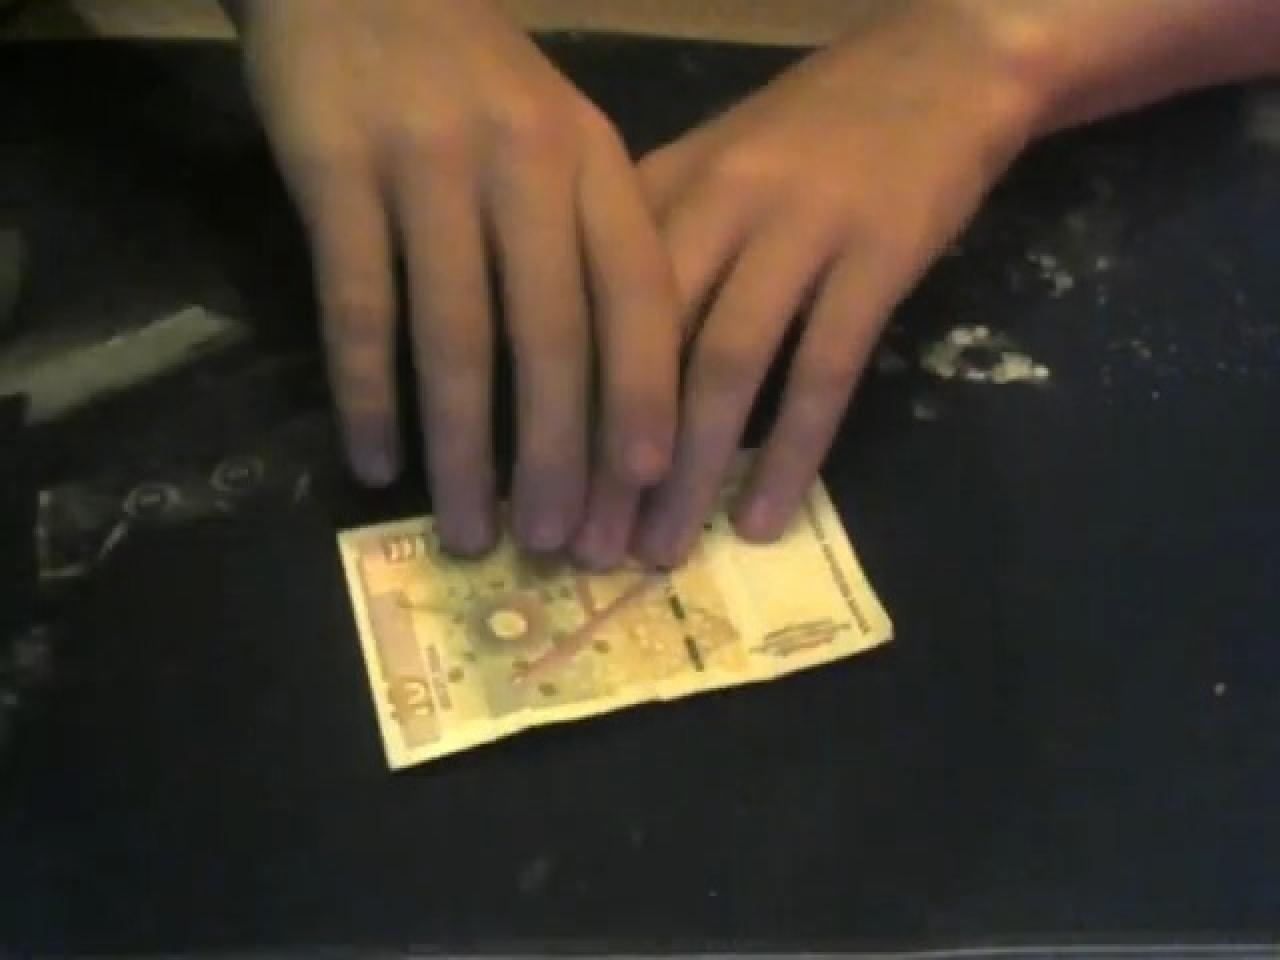10leva: (336, 488, 892, 773)
